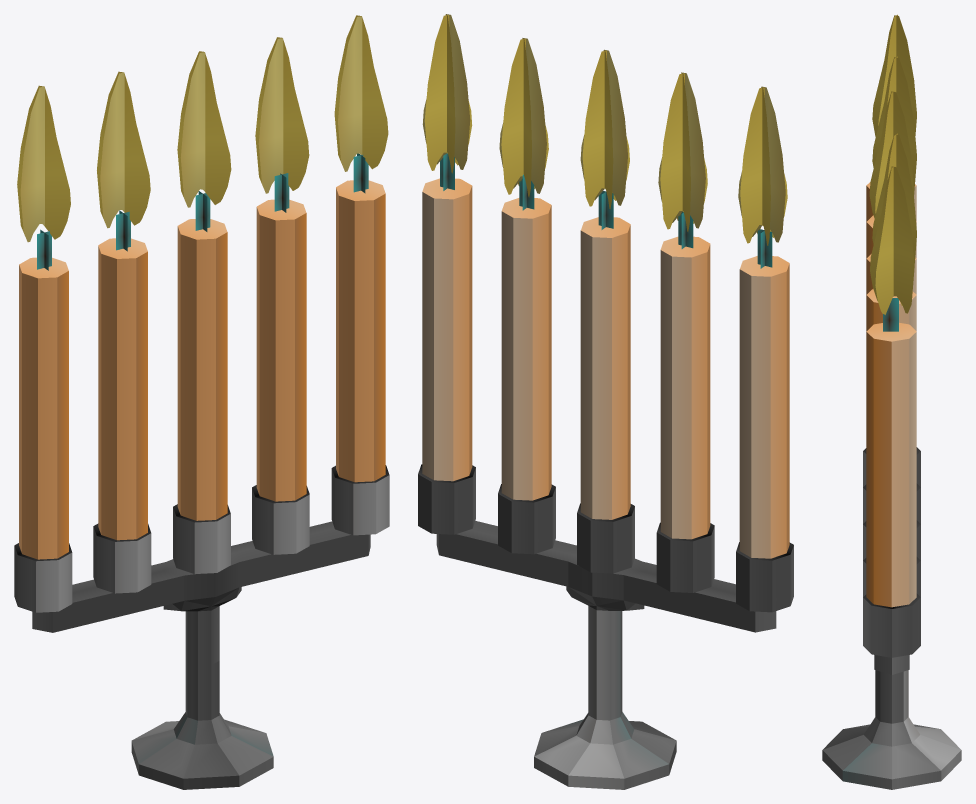
Rendered from candle_338x03.obj.
The picture shows the model from 3 angles, left to right: view 1: azimuth 30°, elevation 25°; view 2: azimuth 150°, elevation 25°; view 3: azimuth 270°, elevation 25°; orthographic projection. The views are drawn at different scales.
Parts seen in each view (by area): view 1: Candle_338x3; view 2: Candle_338x3; view 3: Candle_338x3.
Part boxes in pixels (x1=…): Candle_338x3: x1=14, y1=15, x2=389, y2=789; Candle_338x3: x1=418, y1=14, x2=793, y2=789; Candle_338x3: x1=822, y1=14, x2=961, y2=789.
Size of the model in its own units: 0.6974 by 1.29 by 0.2414.
